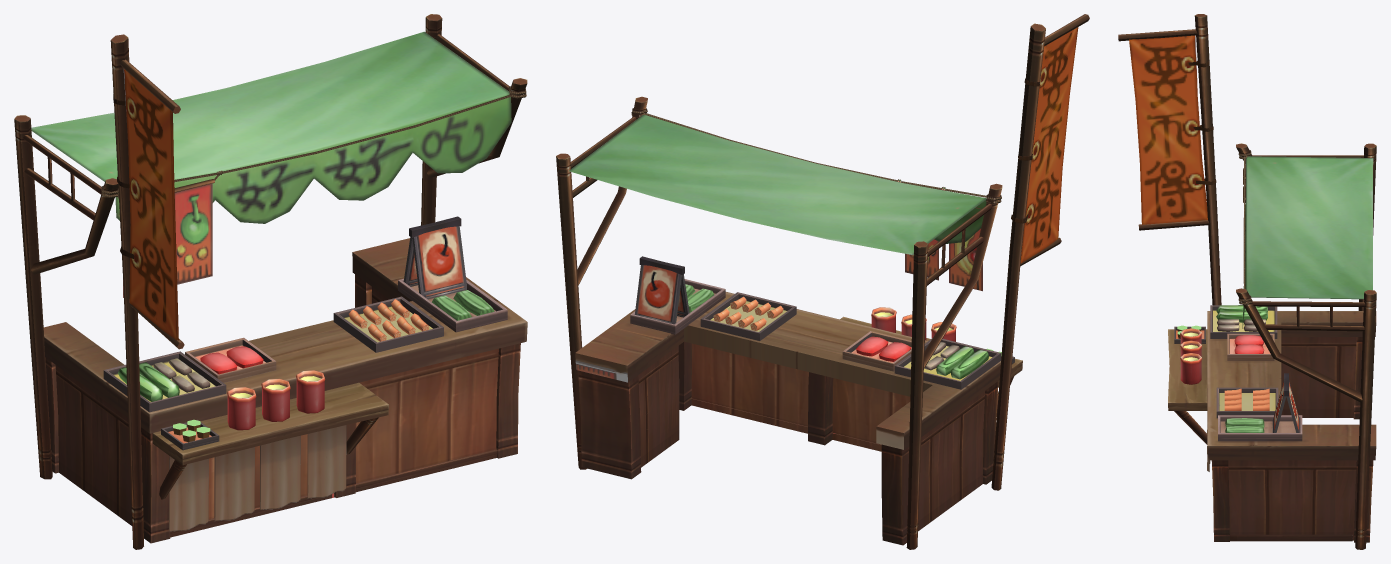
The picture shows the model from 3 angles, left to right: view 1: azimuth 30°, elevation 25°; view 2: azimuth 150°, elevation 25°; view 3: azimuth 270°, elevation 25°; orthographic projection. The views are drawn at different scales.
Parts seen in each view (by area): view 1: wq_jz002_01; view 2: wq_jz002_01; view 3: wq_jz002_01.
Part boxes in pixels (<box>): wq_jz002_01: <box>14,14,527,549</box>; wq_jz002_01: <box>556,14,1089,549</box>; wq_jz002_01: <box>1118,14,1376,549</box>.
Bounding box in the file's own units: 303 × 346 × 209.
Materials: 1 (1 with a texture image).
